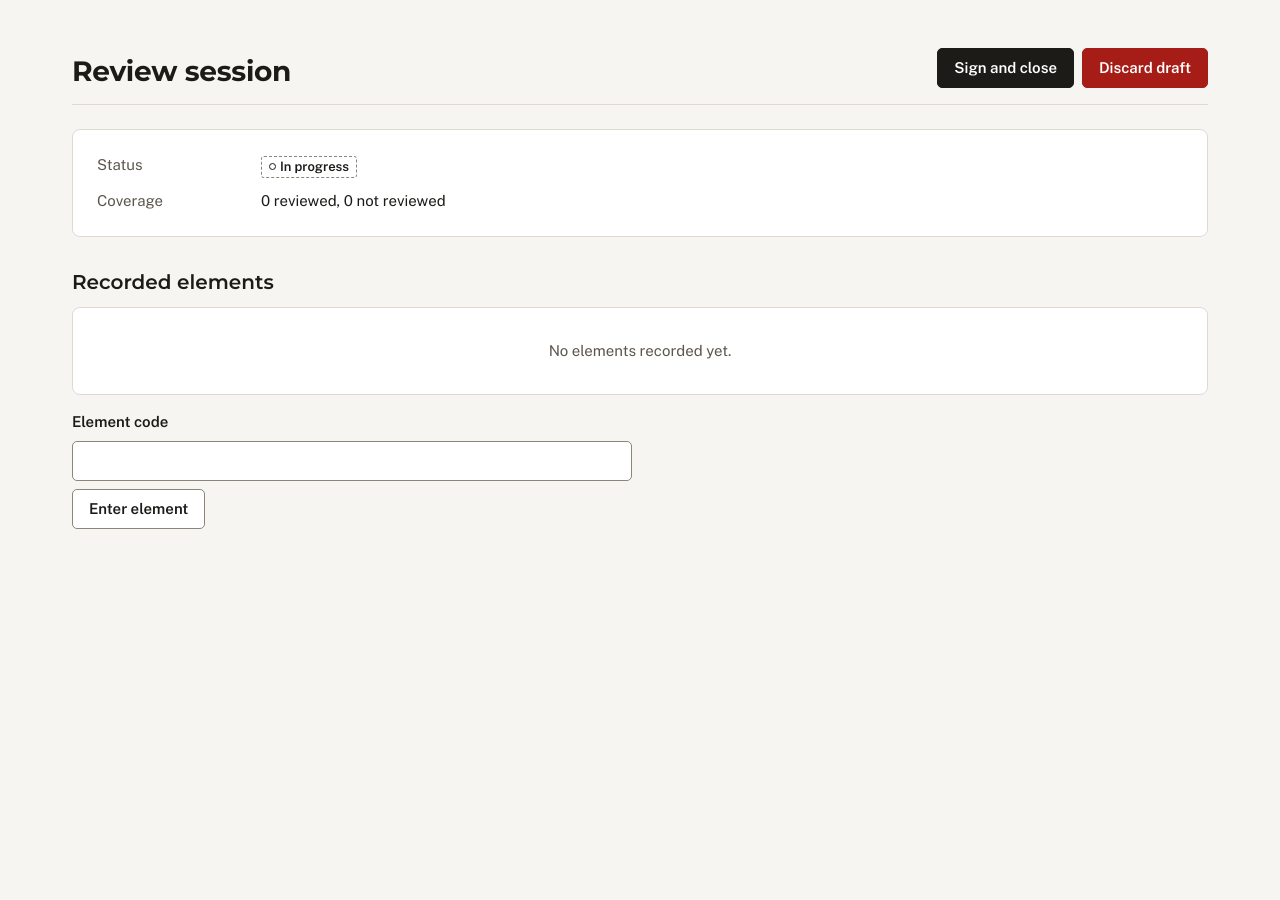
Scenario: ReviewSessionDetailPage › completes the session after confirmation and reloads it as read-only
Click the button with test id "review-session-detail-complete" at (1006, 68), box [937,48,1074,88]
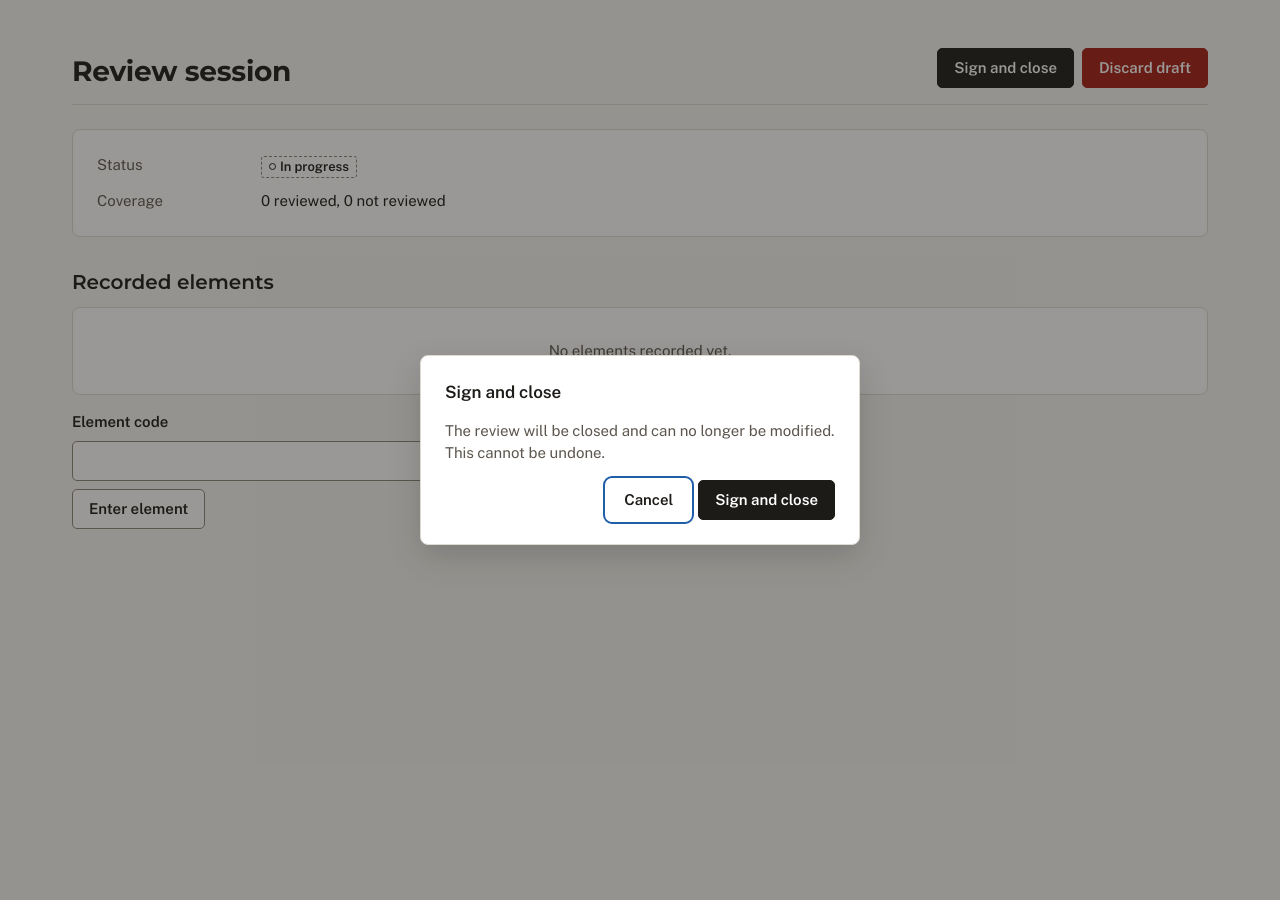
Click the button with test id "confirm-dialog-confirm" at (767, 500), box [698,480,835,520]
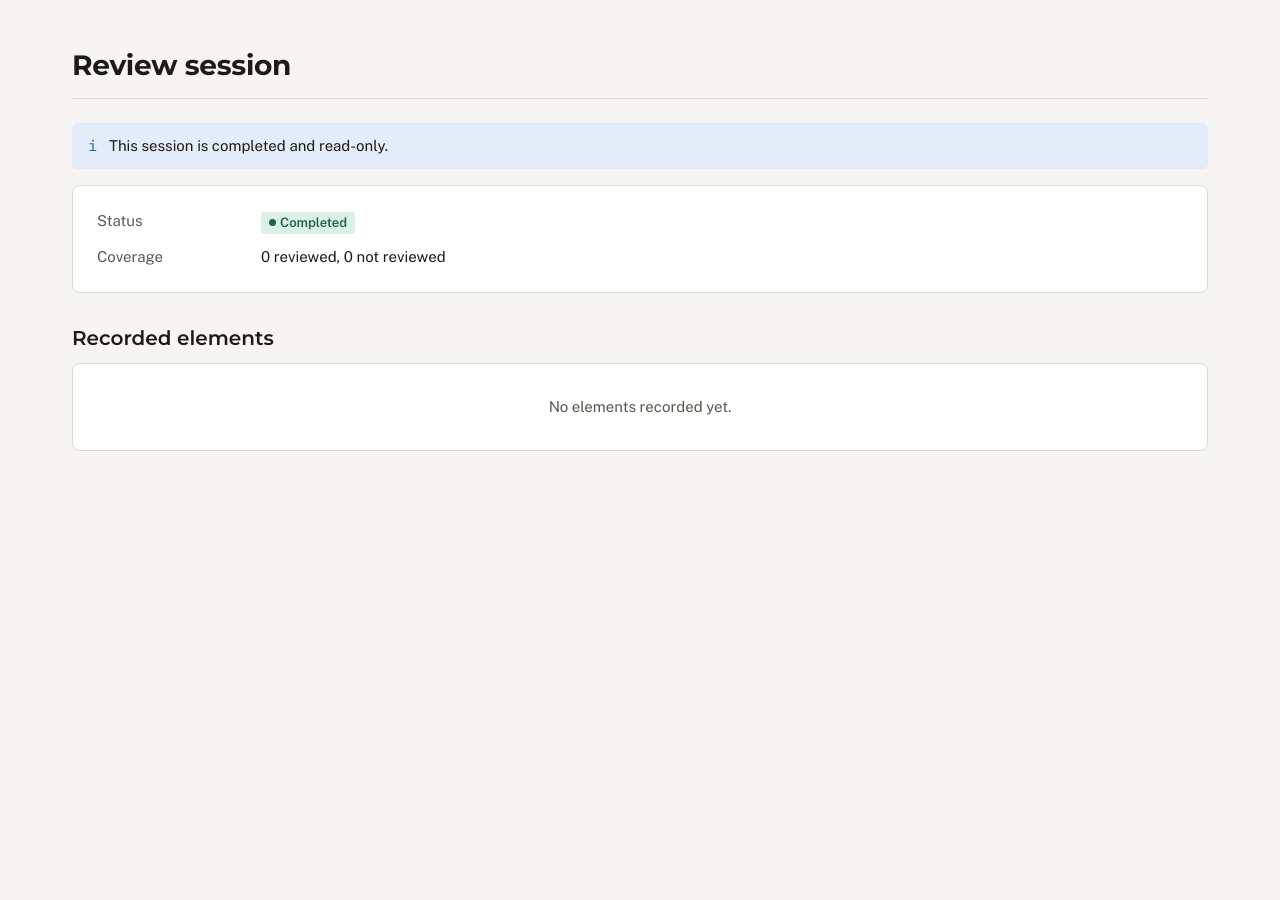
Now the element with test id "review-session-detail-completed-notice" is shown, box [72,123,1208,169]
Now the button with test id "review-session-detail-complete" is gone
Now the button with test id "review-session-detail-discard" is gone
